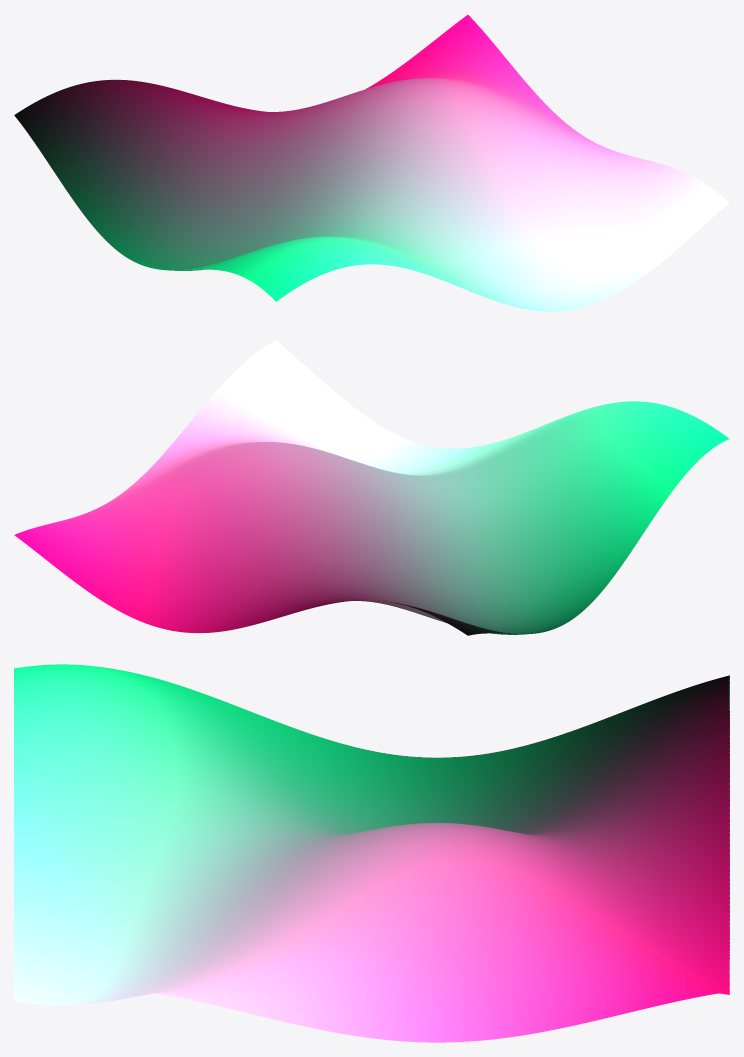
Rendered from heavy-05.glb.
3 views of the same model, one above another, from view 1: azimuth 30°, elevation 25°; view 2: azimuth 150°, elevation 25°; view 3: azimuth 270°, elevation 25° (orthographic). The views are drawn at different scales.
Size of the model in its own units: 8 by 1.8 by 8.
1 material, 1 textured.
